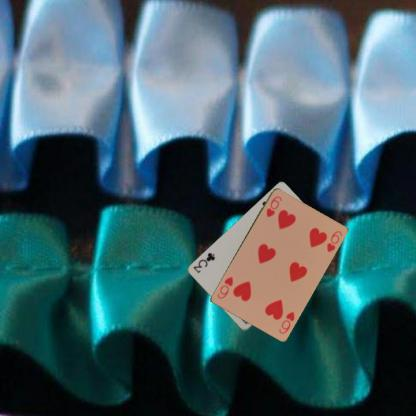6h: (276, 309, 296, 335), (264, 193, 283, 218)
